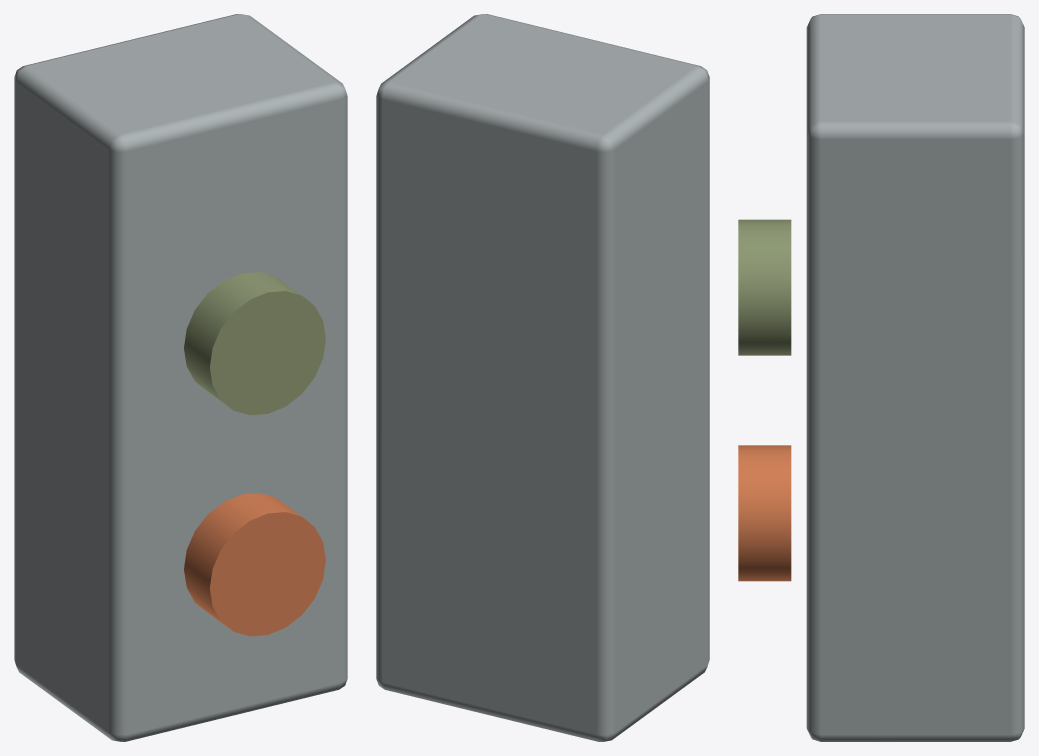
The model's file is off-grid-power-and-controls-pushbutton-station-7bcacd5e__3009.glb.
3 renders of one model, left to right at view 1: azimuth 30°, elevation 25°; view 2: azimuth 150°, elevation 25°; view 3: azimuth 270°, elevation 25°, orthographic. The views are drawn at different scales.
Visible parts, largest first — view 1: pushbutton-station; view 2: pushbutton-station; view 3: pushbutton-station.
Boxes of the visible parts, left/top/right/bottom form: pushbutton-station: left=14, top=14, right=347, bottom=741; pushbutton-station: left=376, top=14, right=709, bottom=741; pushbutton-station: left=738, top=14, right=1024, bottom=741.
Bounding box in the file's own units: 0.09 × 0.22 × 0.092.
